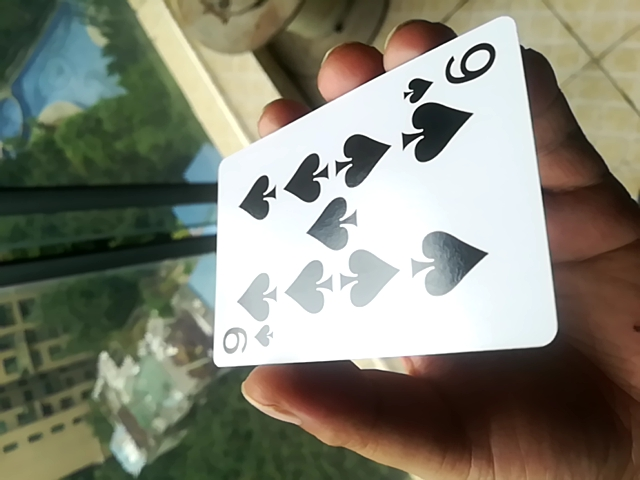ht 9: (209, 16, 556, 375)
